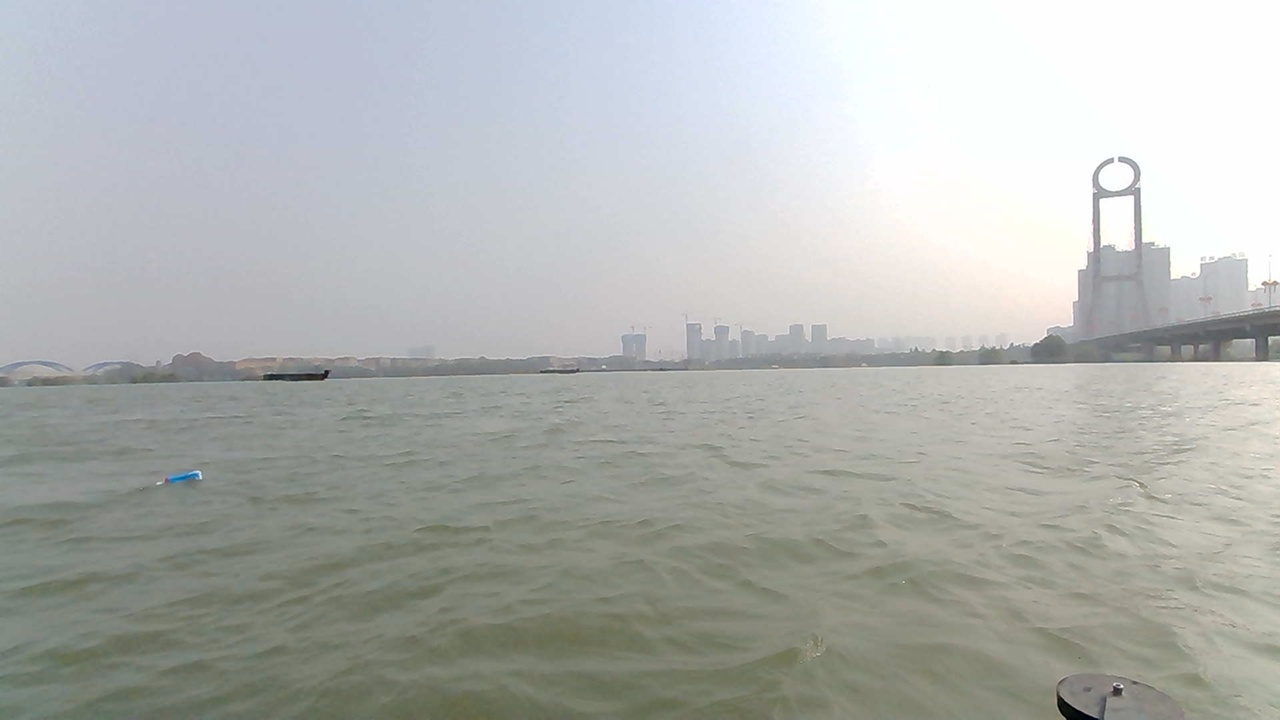bottle: (155, 467, 212, 495)
